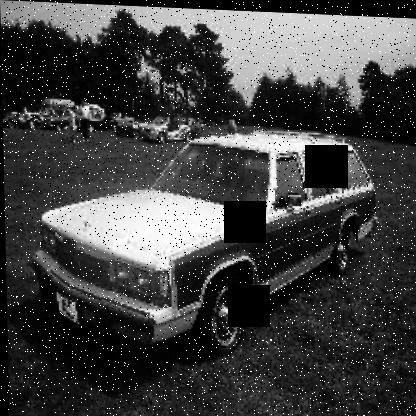not_emergency: (28, 107, 407, 350)
